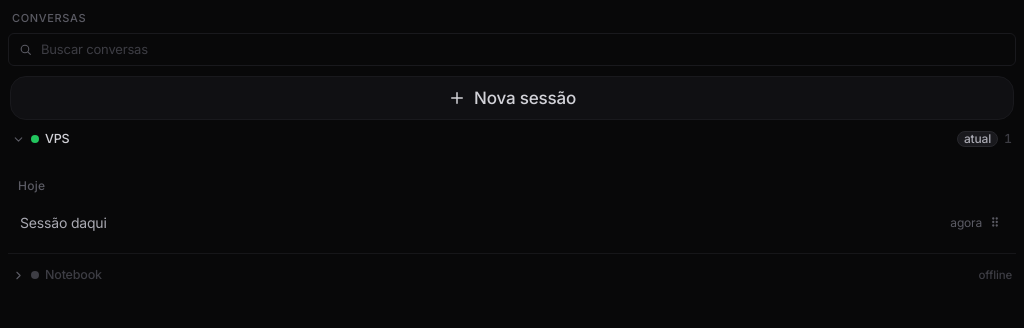
Test case: sidebar grouped by box › never peeks an offline box and greys it out
Step 1. Click the button with aria-label "Expandir Notebook" → point(73, 274), box [8,262,1016,289]
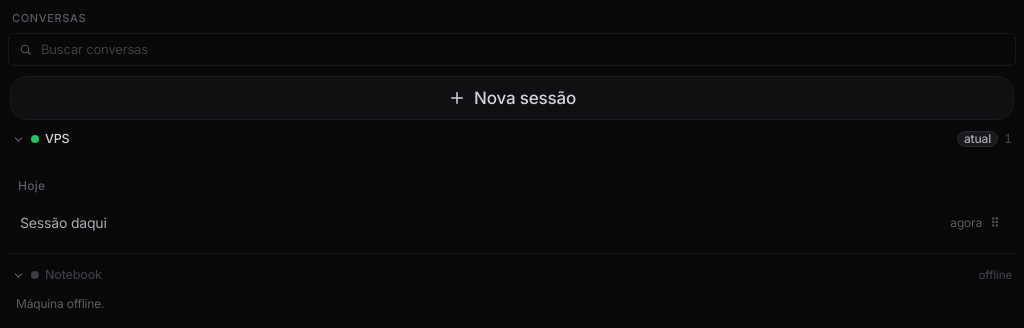
Result: the text "Máquina offline." is shown at [16,296,104,310]
